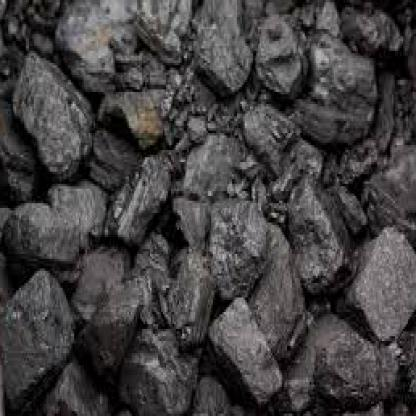Sedimentary_coal: (1, 266, 76, 415), (15, 48, 94, 176), (218, 295, 288, 402), (288, 157, 344, 288), (343, 225, 416, 322), (193, 0, 255, 97), (100, 82, 174, 148), (264, 2, 312, 92)
